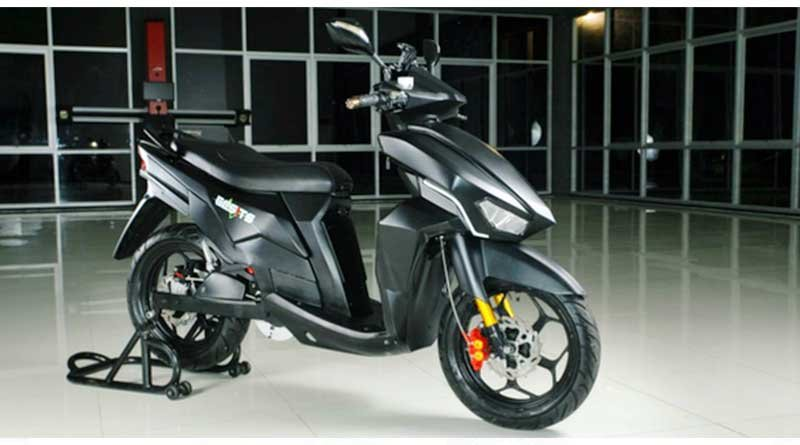motor: (131, 29, 603, 432)
